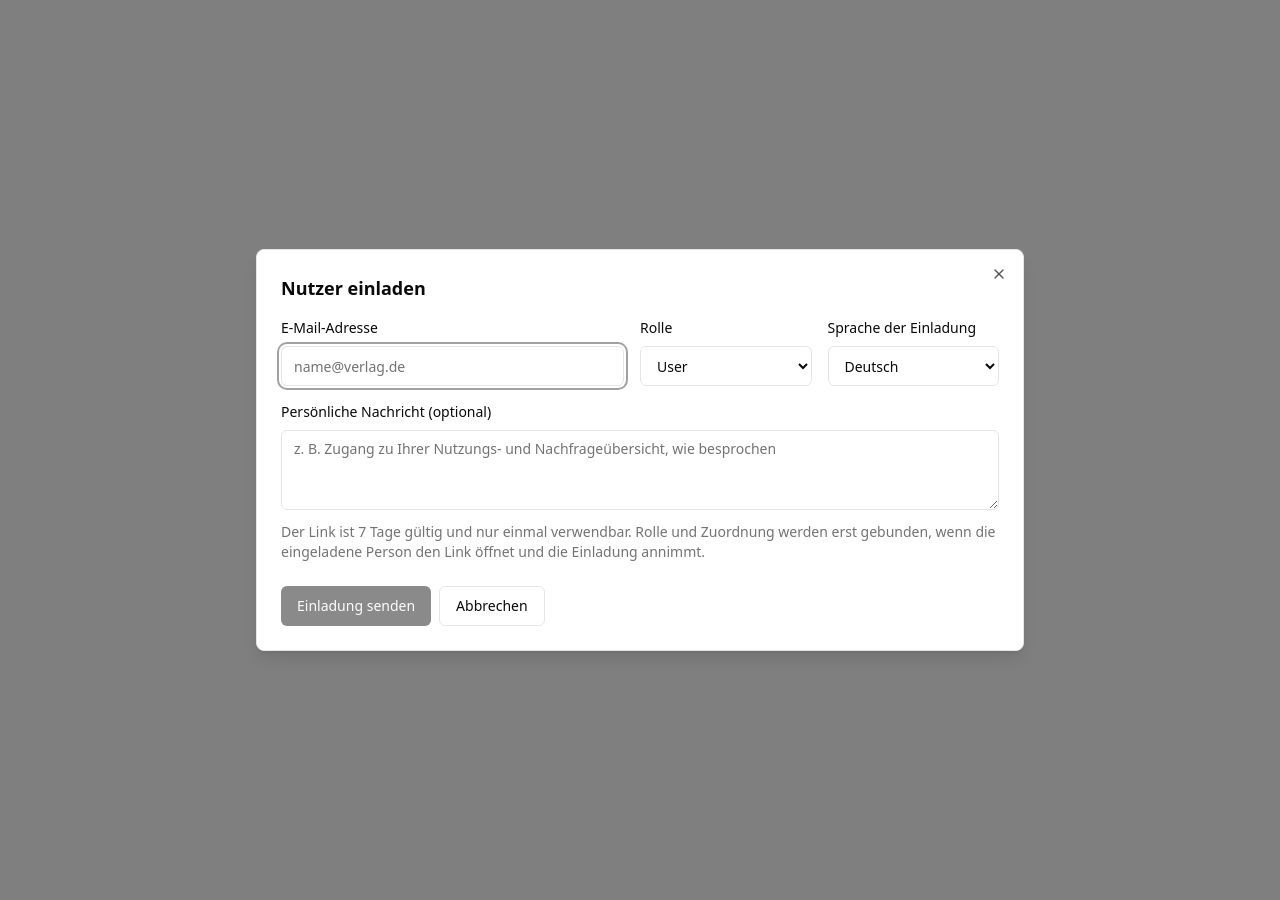
Test: InviteDialog › warns about an unverified existing account and refuses a blocked one
Type "x@example.de" into the field labelled "E-Mail-Adresse" at (452, 366), box [281,346,624,386]
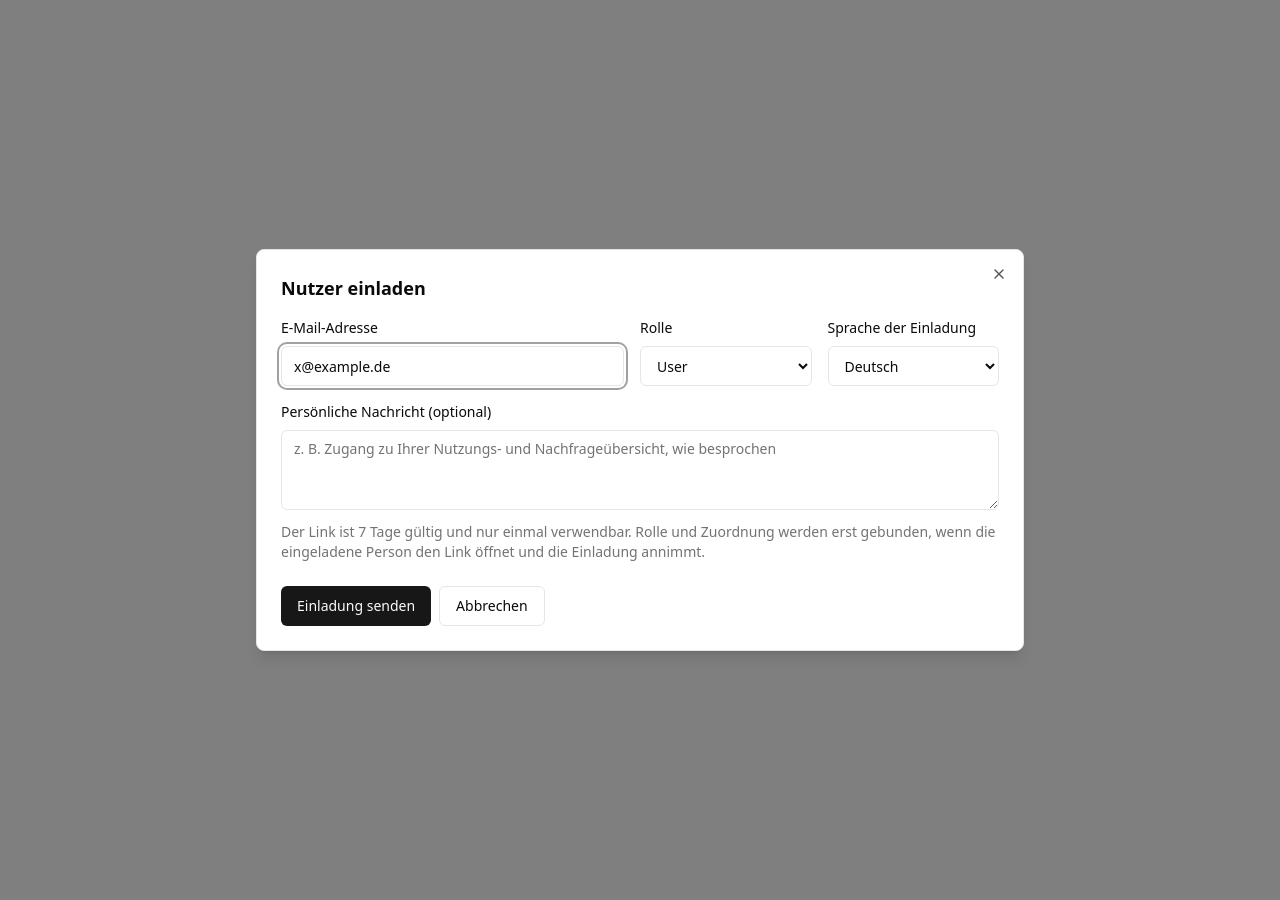
Leave the field labelled "E-Mail-Adresse", box [281,346,624,386]
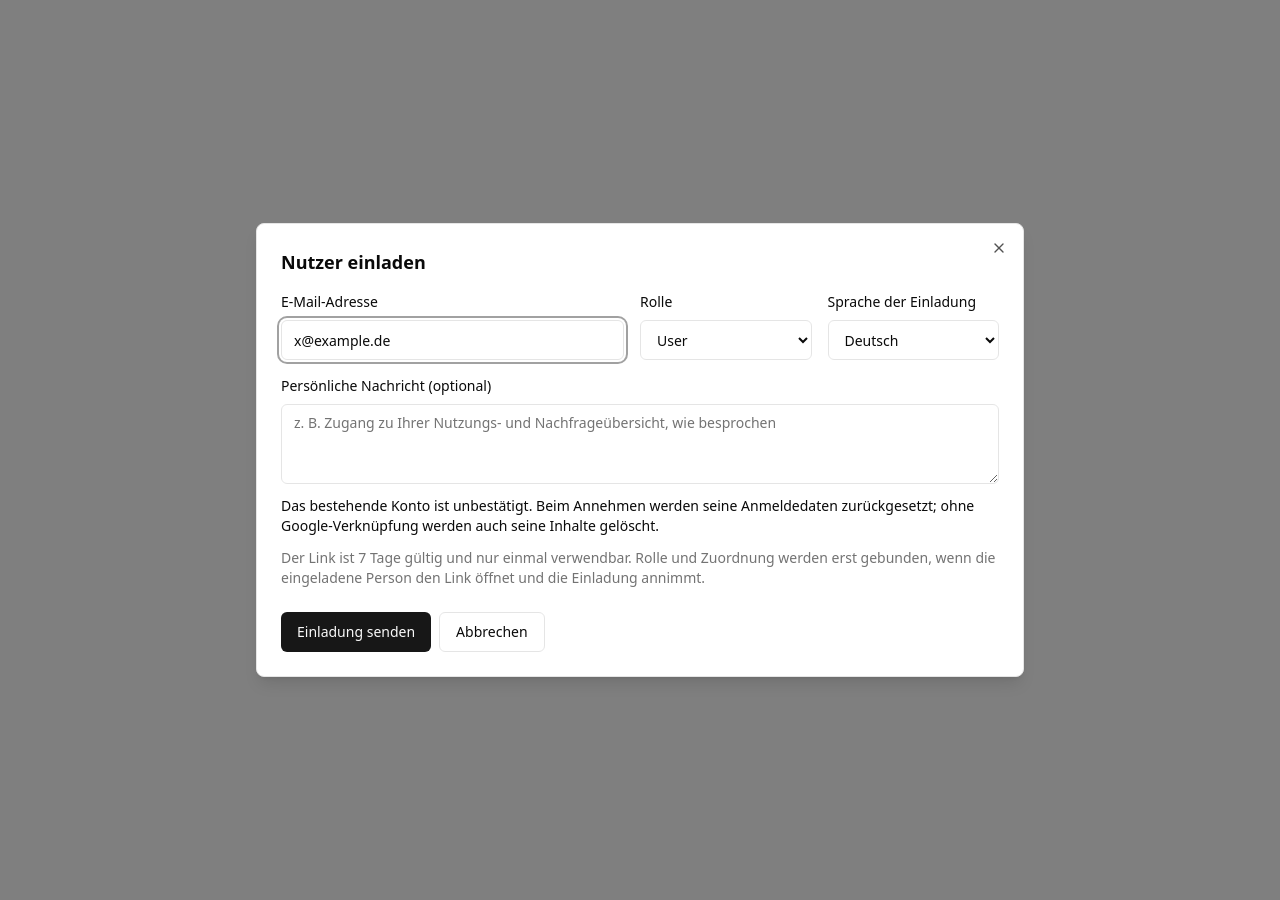
Now the text "Das bestehende Konto ist unbestätigt" is shown, box [281,496,974,535]
